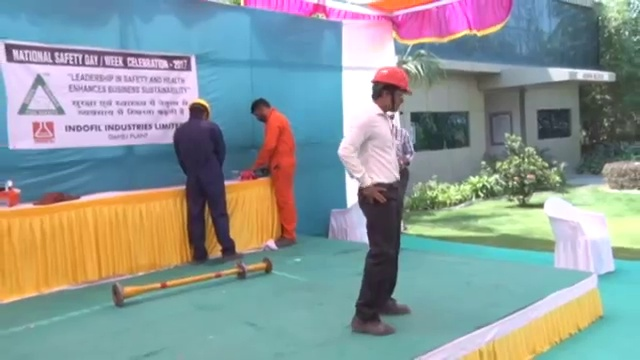helmet: (370, 65, 415, 96), (188, 98, 212, 118)
helmet_off: (249, 96, 276, 124)
helmet_on: (367, 63, 417, 120), (186, 96, 214, 125)
person: (338, 63, 414, 337), (172, 96, 245, 263), (249, 98, 302, 248), (390, 118, 417, 220)
